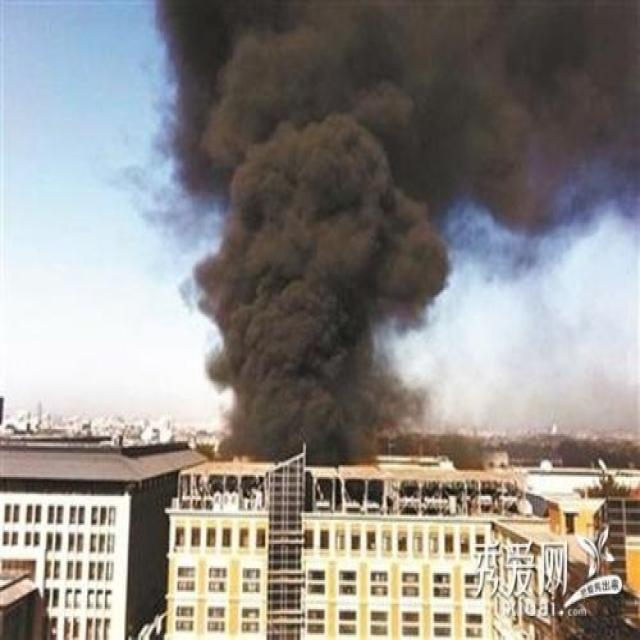Smoke: (147, 0, 639, 455)
